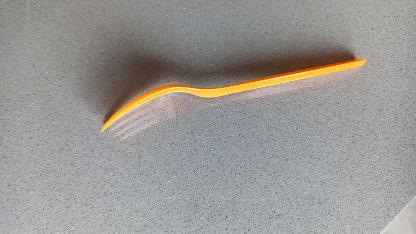Others: (98, 55, 368, 133)
